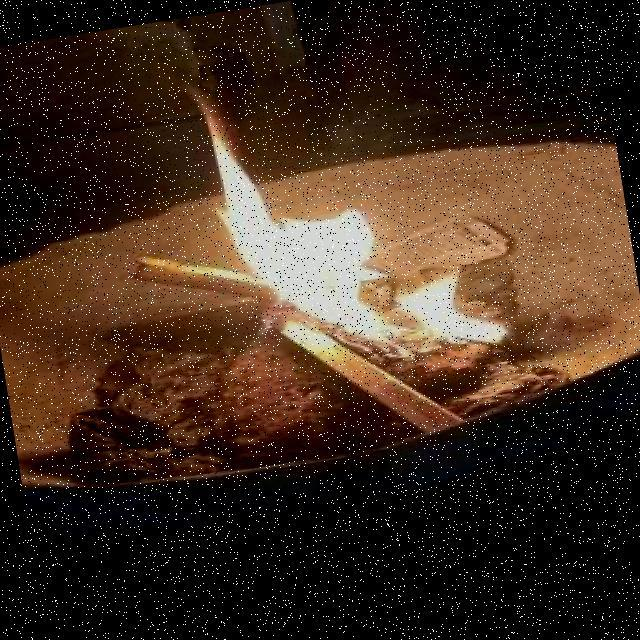Fire: (171, 26, 564, 395)
